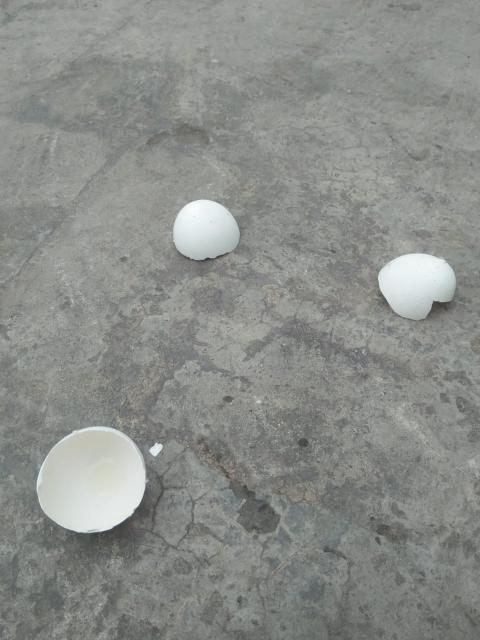Roto: (35, 425, 147, 534), (376, 252, 456, 320), (172, 198, 240, 260)
